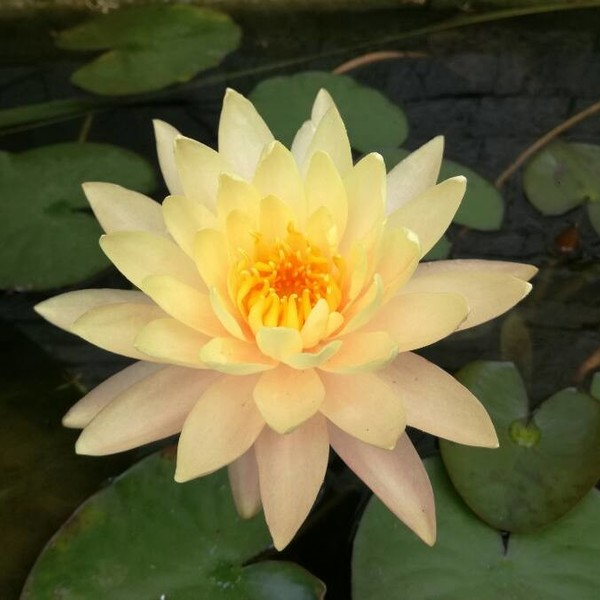obstacle: (23, 77, 561, 563)
